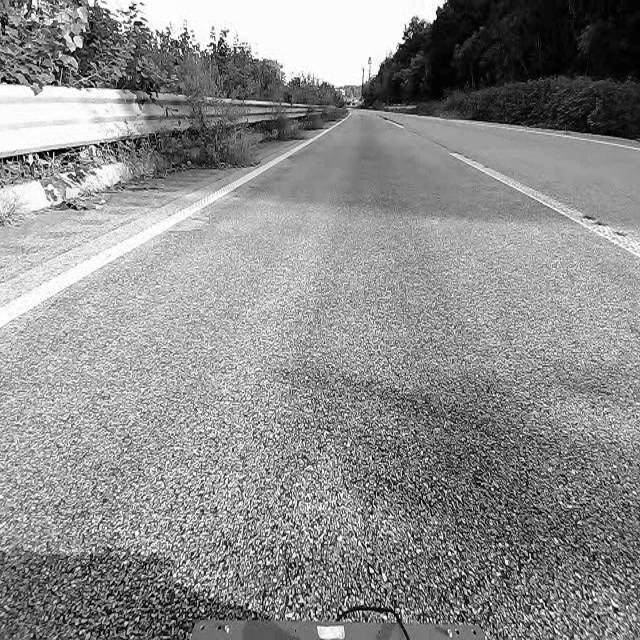Lane: (0, 118, 348, 335), (0, 121, 343, 329), (380, 110, 640, 297), (449, 152, 639, 258), (436, 119, 639, 151), (380, 116, 403, 128)
